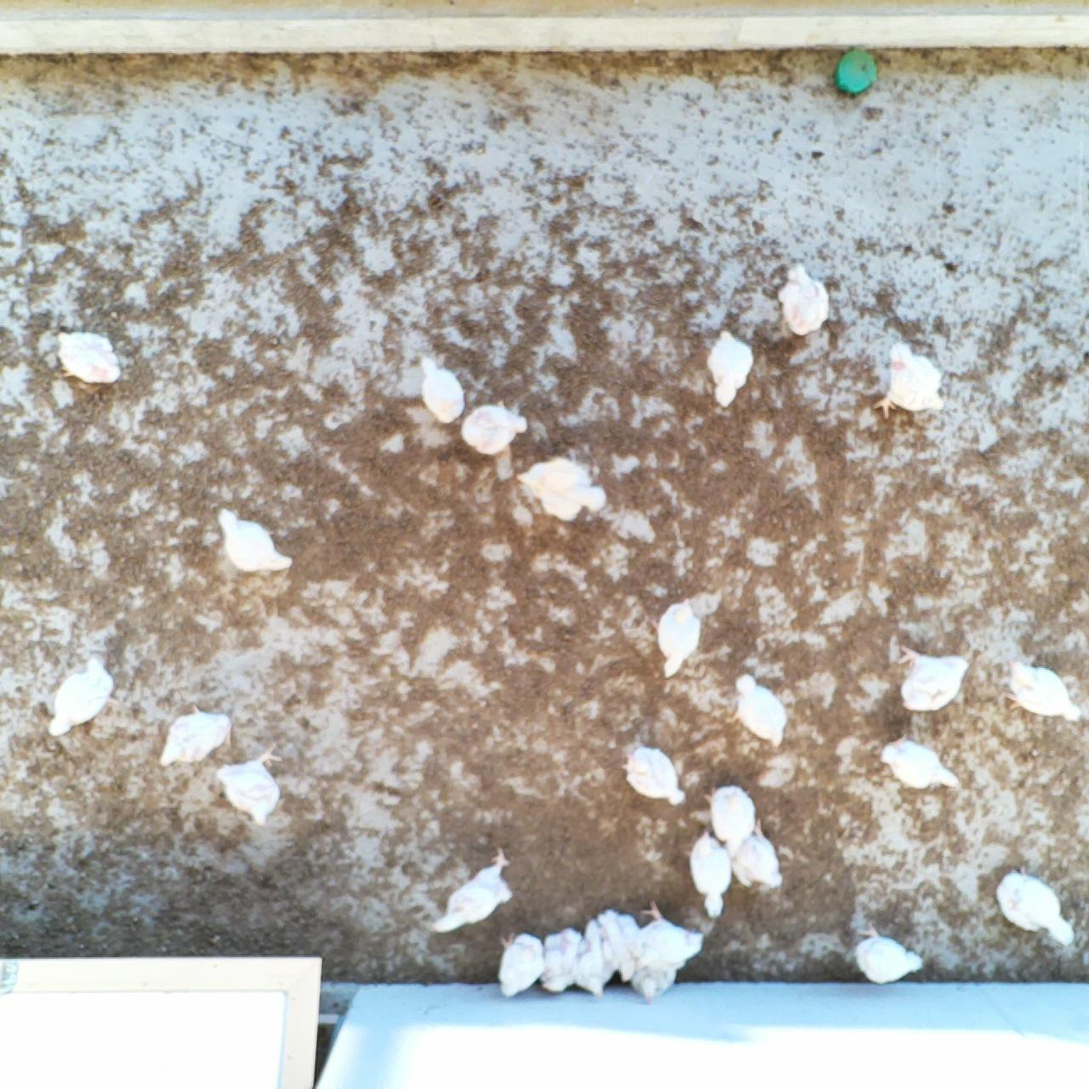chicken: (430, 846, 515, 935), (515, 453, 609, 525), (995, 871, 1076, 950), (215, 740, 285, 828), (46, 654, 118, 739), (216, 505, 297, 579), (629, 897, 706, 974), (894, 642, 972, 712), (875, 341, 944, 420), (1002, 659, 1084, 724), (156, 704, 233, 769), (852, 921, 925, 989), (728, 668, 790, 748), (881, 735, 961, 792), (703, 329, 755, 411), (53, 326, 120, 389), (702, 782, 756, 859), (689, 826, 732, 921), (623, 742, 686, 806), (729, 818, 785, 890), (779, 262, 831, 339), (655, 598, 701, 683), (460, 399, 528, 456), (570, 923, 618, 1001), (419, 353, 466, 425), (496, 932, 546, 999), (597, 909, 643, 979), (538, 927, 586, 991), (630, 960, 681, 1007)
